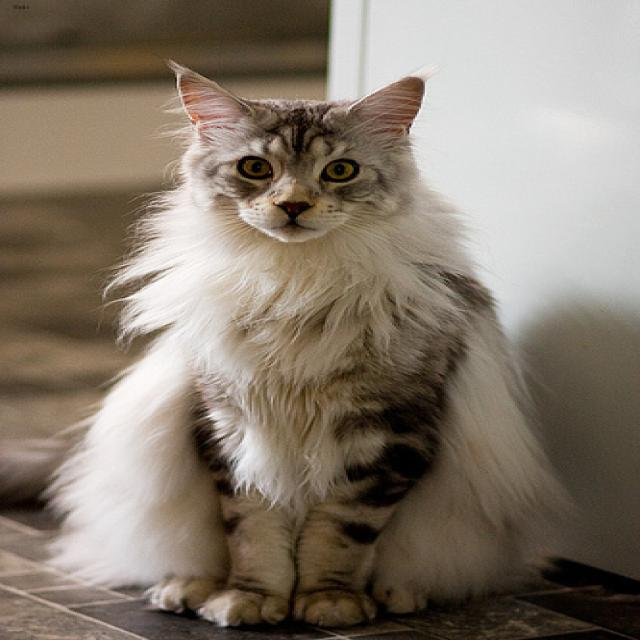Maine_Coon: (175, 67, 419, 241)
